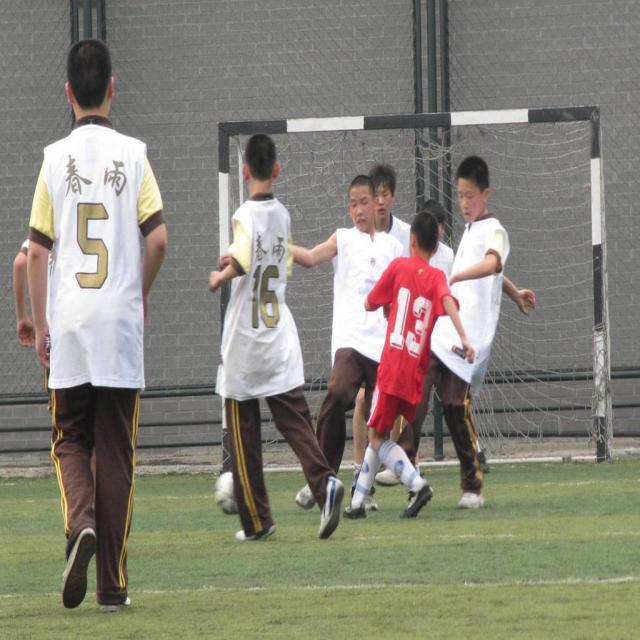ball: (215, 470, 238, 514)
